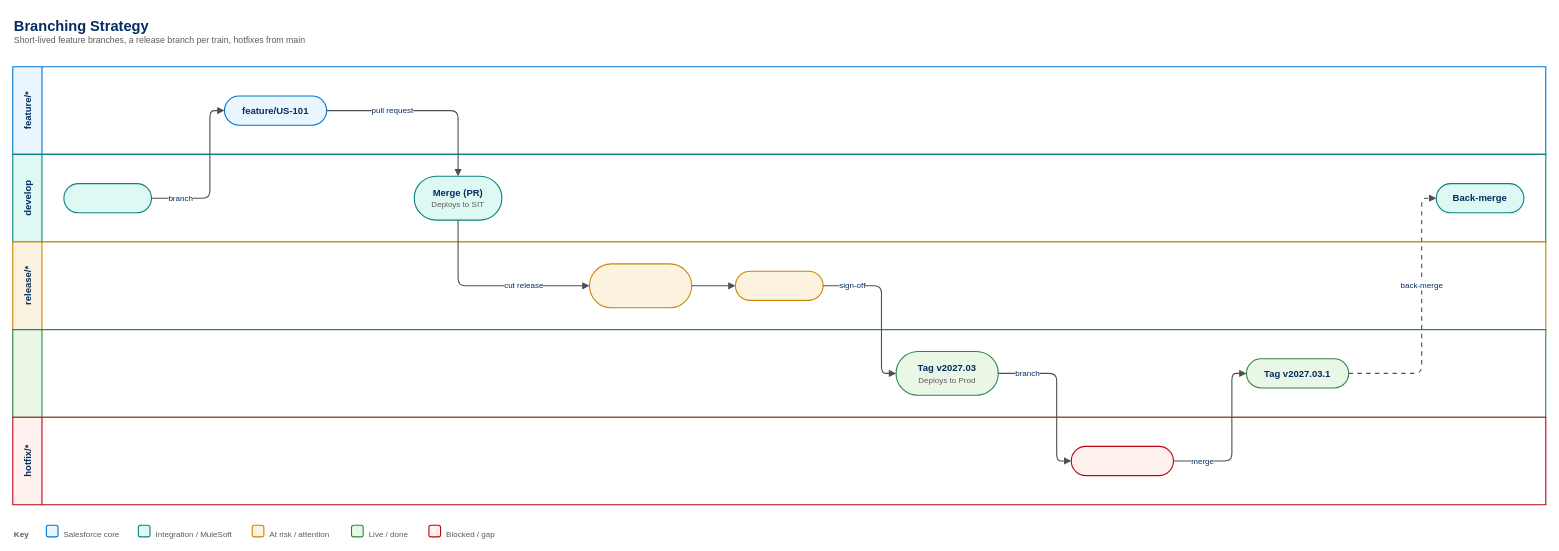
This 1559x551 diagram has some shape labels left out. Here are the shapes that lost their labels. From the top down, the box of each, then its label:
(63, 183, 152, 213): Sprint start
(589, 263, 692, 308): release/2027.03 Deploys to UAT
(735, 270, 823, 301): UAT fixes
(12, 329, 1546, 417): main
(1070, 446, 1174, 476): hotfix/INC-77
